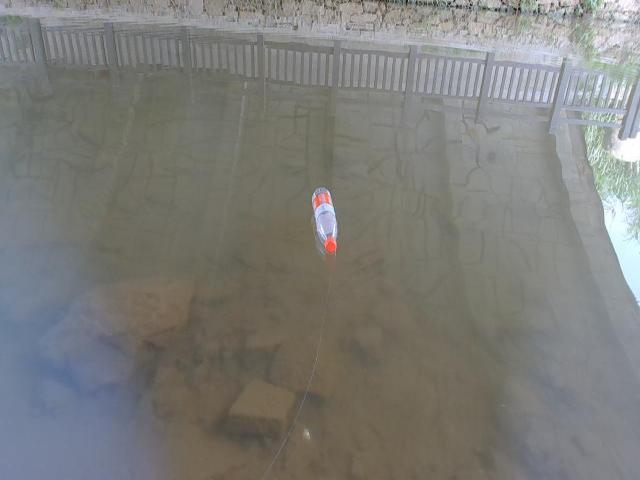Bottle: (302, 186, 349, 259)
